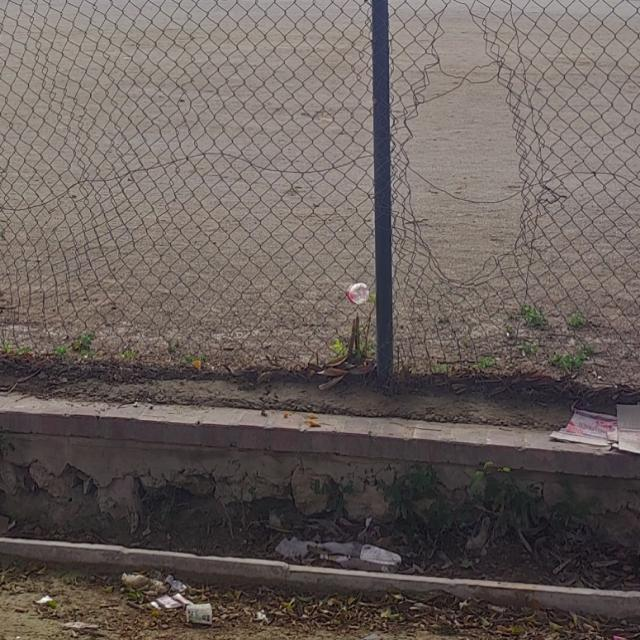fence line: (406, 4, 537, 301)
